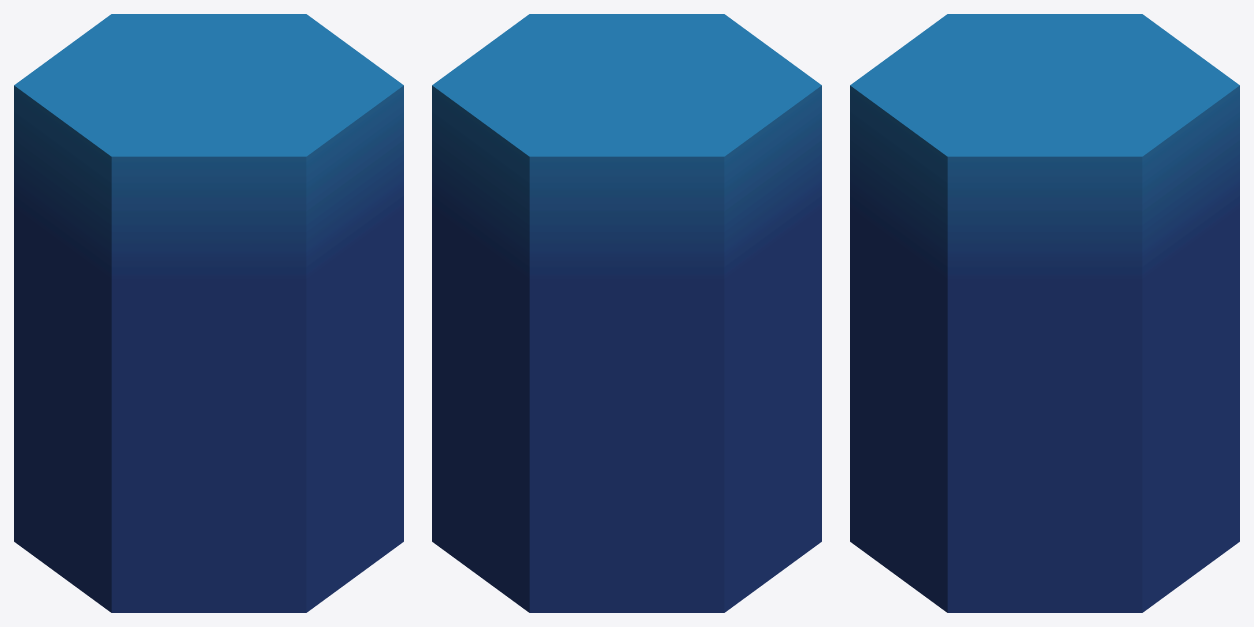
File: hex_water_thick.glb
3 renders of one model, left to right at view 1: azimuth 30°, elevation 25°; view 2: azimuth 150°, elevation 25°; view 3: azimuth 270°, elevation 25°, orthographic.
Visible parts, largest first — view 1: hex_water3; view 2: hex_water3; view 3: hex_water3.
Boxes of the visible parts, x1,y1,x2,y2 form: hex_water3: [14, 14, 403, 612]; hex_water3: [432, 14, 821, 612]; hex_water3: [850, 14, 1239, 612].
Size of the model in its own units: 2 by 2.98 by 2.31.
1 material, 1 textured.
